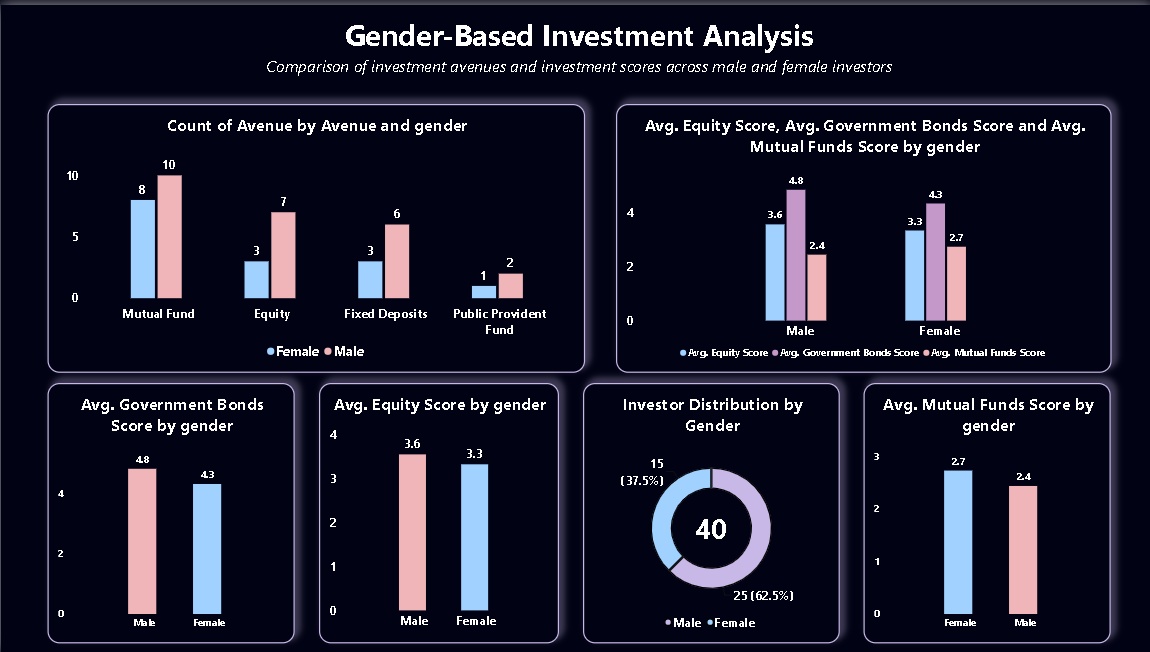

This screenshot's page, from the dashboard's own definition file:
{"tool":"powerbi","page":{"name":"Task-2.Gender-Based Analysis","canvas":[1920,1080],"ordinal":1},"visuals":[{"type":"textbox","box":[78,18,1772,66],"z":0},{"type":"clusteredColumnChart","fields":{"Category":["Investments.Avenue"],"Series":["Investments.gender"],"Y":["CountNonNull(Investments.Avenue)"]},"box":[78,166,896,448],"z":1000},{"type":"donutChart","title":"Investor Distribution by Gender","fields":{"Category":["Investments.gender"],"Y":["CountNonNull(Investments.gender)"]},"box":[970,630,428,434],"z":2000},{"type":"clusteredColumnChart","fields":{"Category":["Investments.gender"],"Y":["All_Measures.Average Mutual Funds Score"]},"box":[1438,630,412,434],"z":3000},{"type":"clusteredColumnChart","fields":{"Category":["Investments.gender"],"Y":["All_Measures.Average Equity Score"]},"box":[530,630,400,434],"z":4000},{"type":"clusteredColumnChart","fields":{"Category":["Investments.gender"],"Y":["All_Measures.Average Government Bonds Score"]},"box":[78,630,412,434],"z":5000},{"type":"clusteredColumnChart","fields":{"Category":["Investments.gender"],"Y":["All_Measures.Average Equity Score","All_Measures.Average Government Bonds Score","All_Measures.Average Mutual Funds Score"]},"box":[1024,166,826,448],"z":6000},{"type":"textbox","box":[77.5,82.5,1772.5,47.5],"z":7000}]}

Visuals, with their boxes in screenshot pixels (x1, y1, x2, y2), scaled from the page's 1920x1080 canvas onto the 1150x652 screenshot:
textbox: crop(47, 11, 1108, 51)
clusteredColumnChart - Investments.Avenue x Investments.gender: crop(47, 100, 583, 371)
"Investor Distribution by Gender" donutChart: crop(581, 380, 837, 642)
clusteredColumnChart - Investments.gender x All_Measures.Average Mutual Funds Score: crop(861, 380, 1108, 642)
clusteredColumnChart - Investments.gender x All_Measures.Average Equity Score: crop(317, 380, 557, 642)
clusteredColumnChart - Investments.gender x All_Measures.Average Government Bonds Score: crop(47, 380, 293, 642)
clusteredColumnChart - Investments.gender x All_Measures.Average Equity Score: crop(613, 100, 1108, 371)
textbox: crop(46, 50, 1108, 78)
